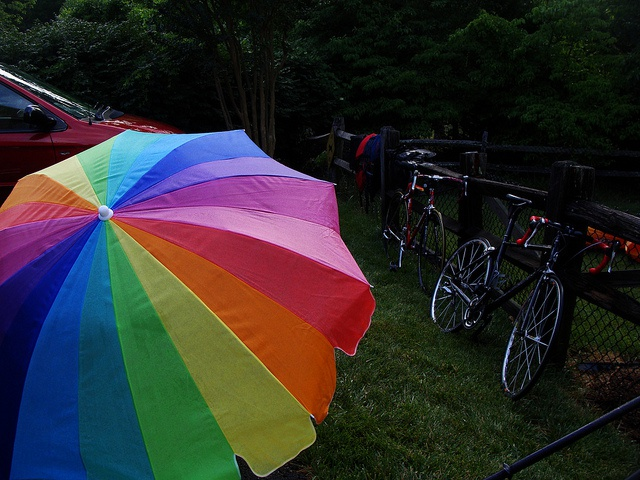non-vehicle: (430, 192, 621, 402), (384, 145, 446, 286)
